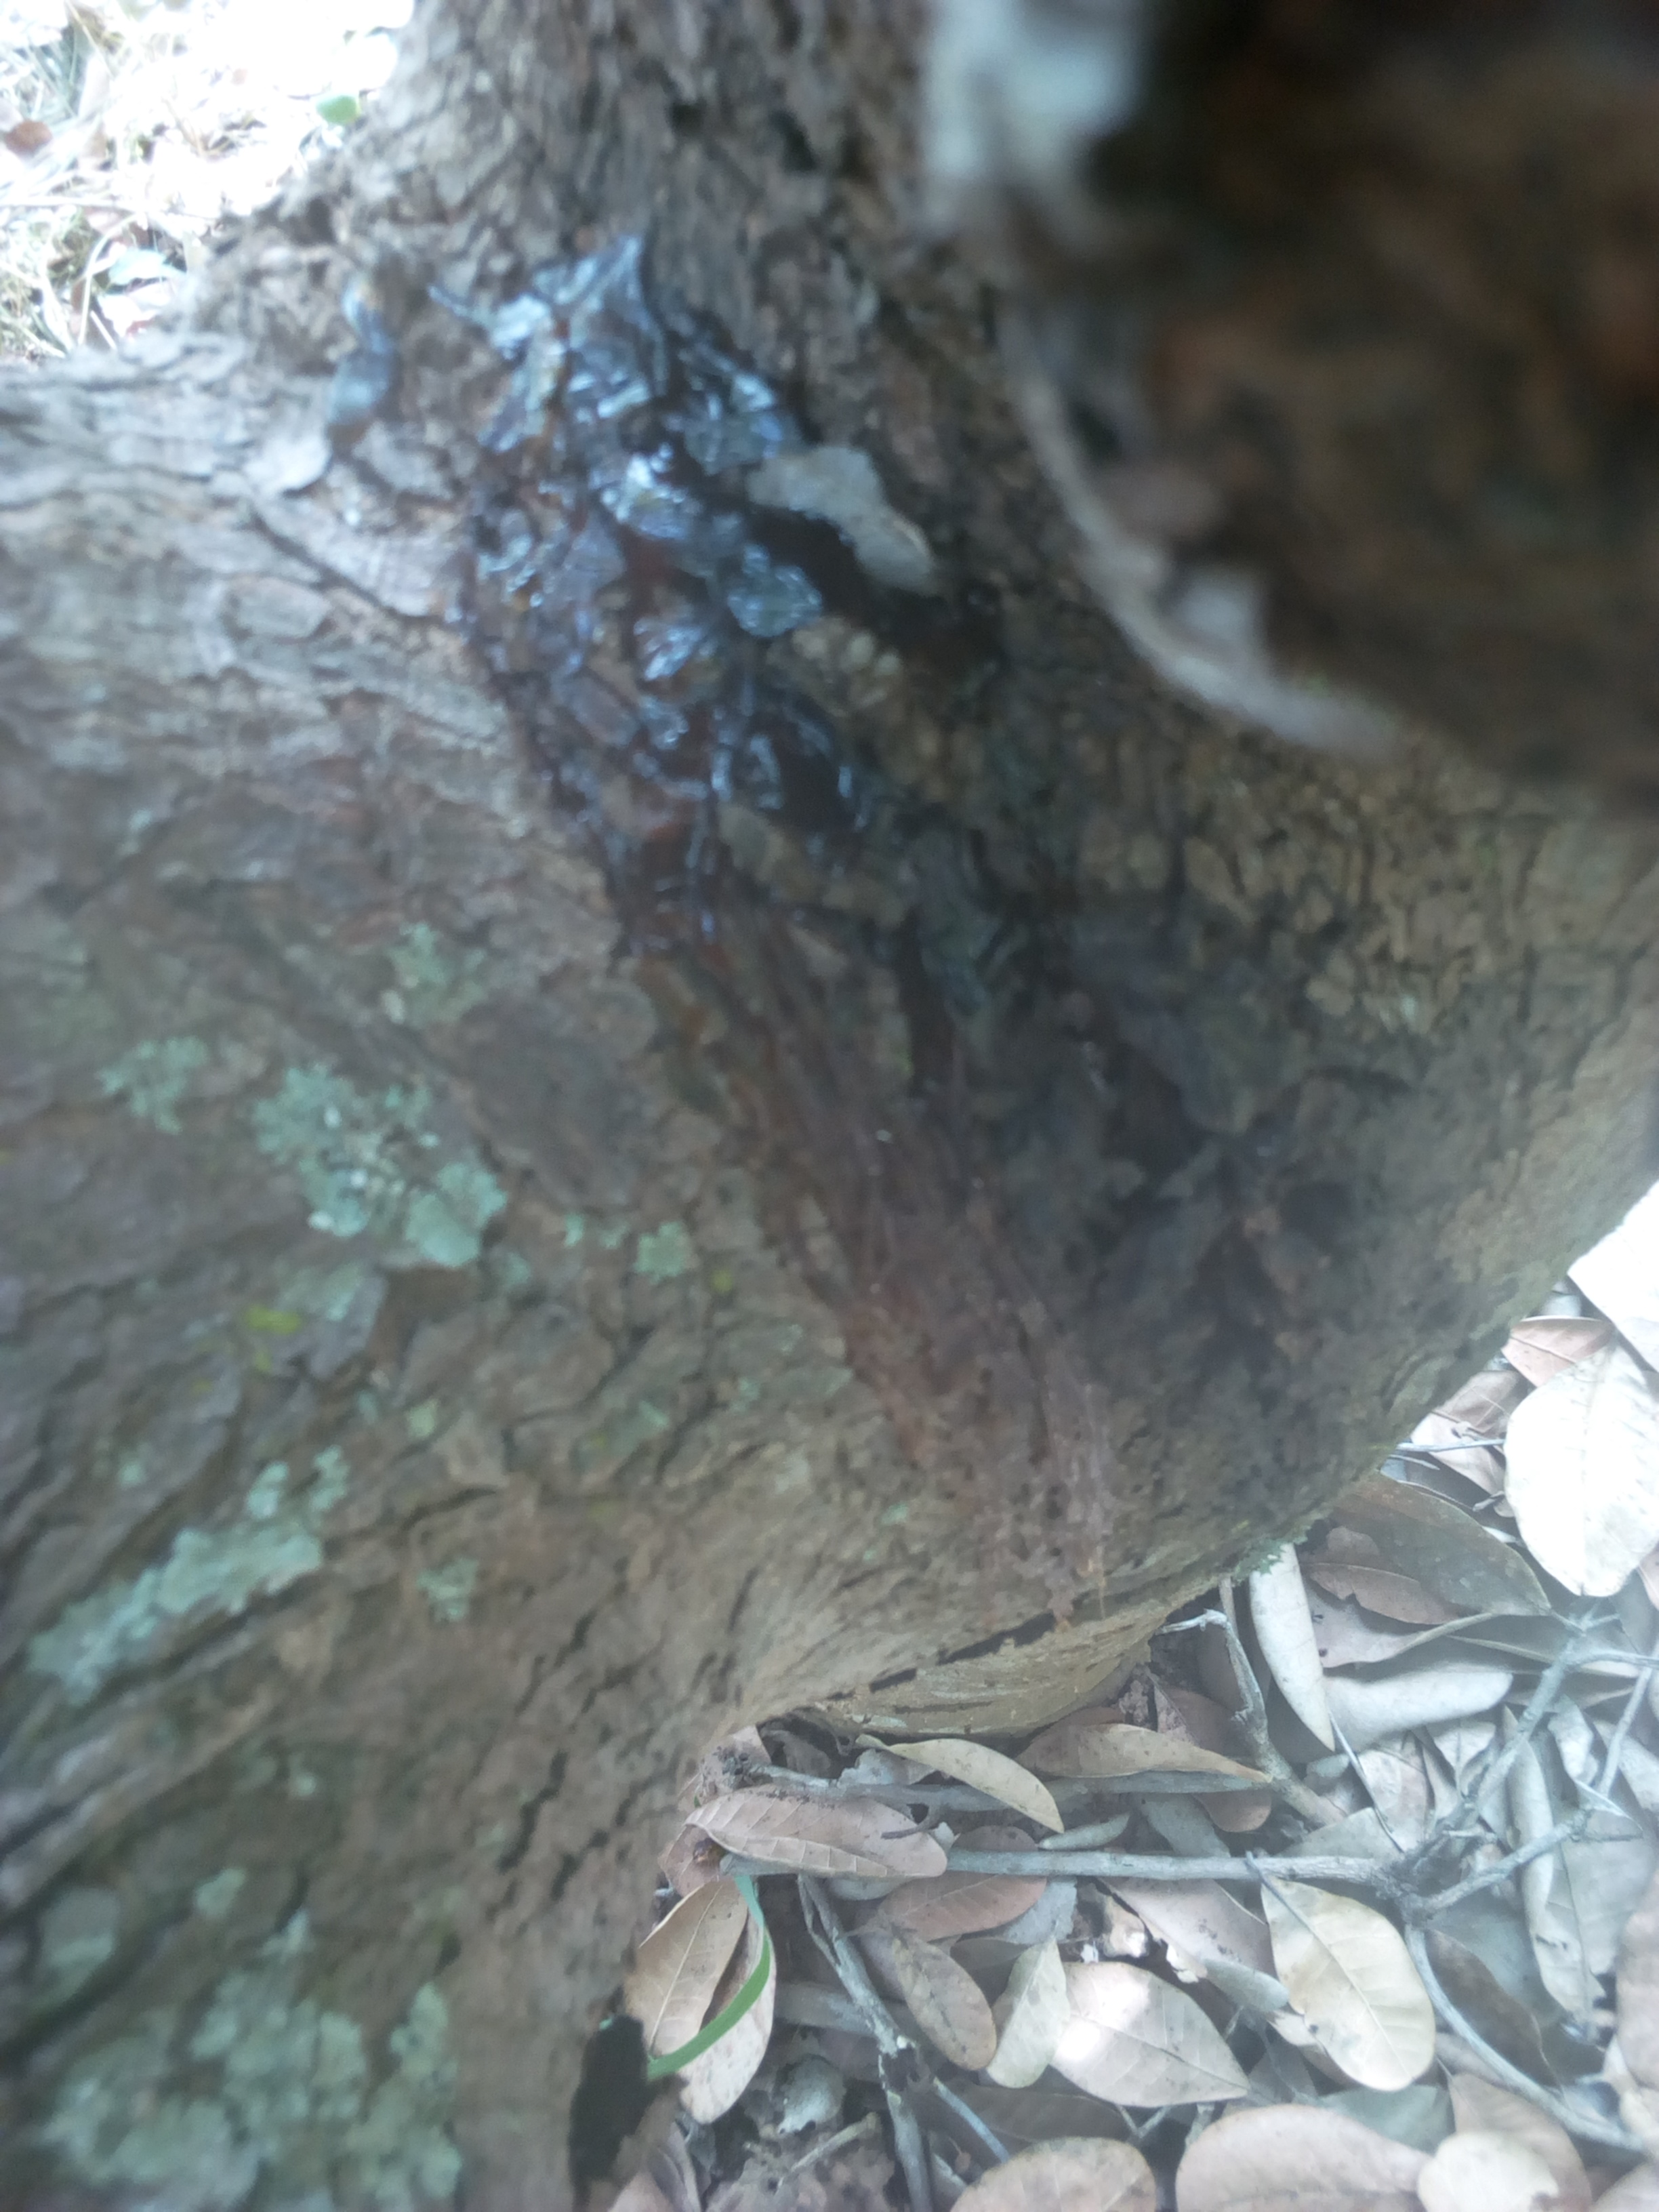Gommose: (430, 279, 1314, 1465)
